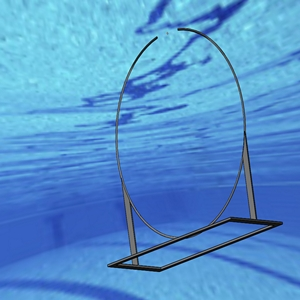circle: (108, 25, 284, 272)
